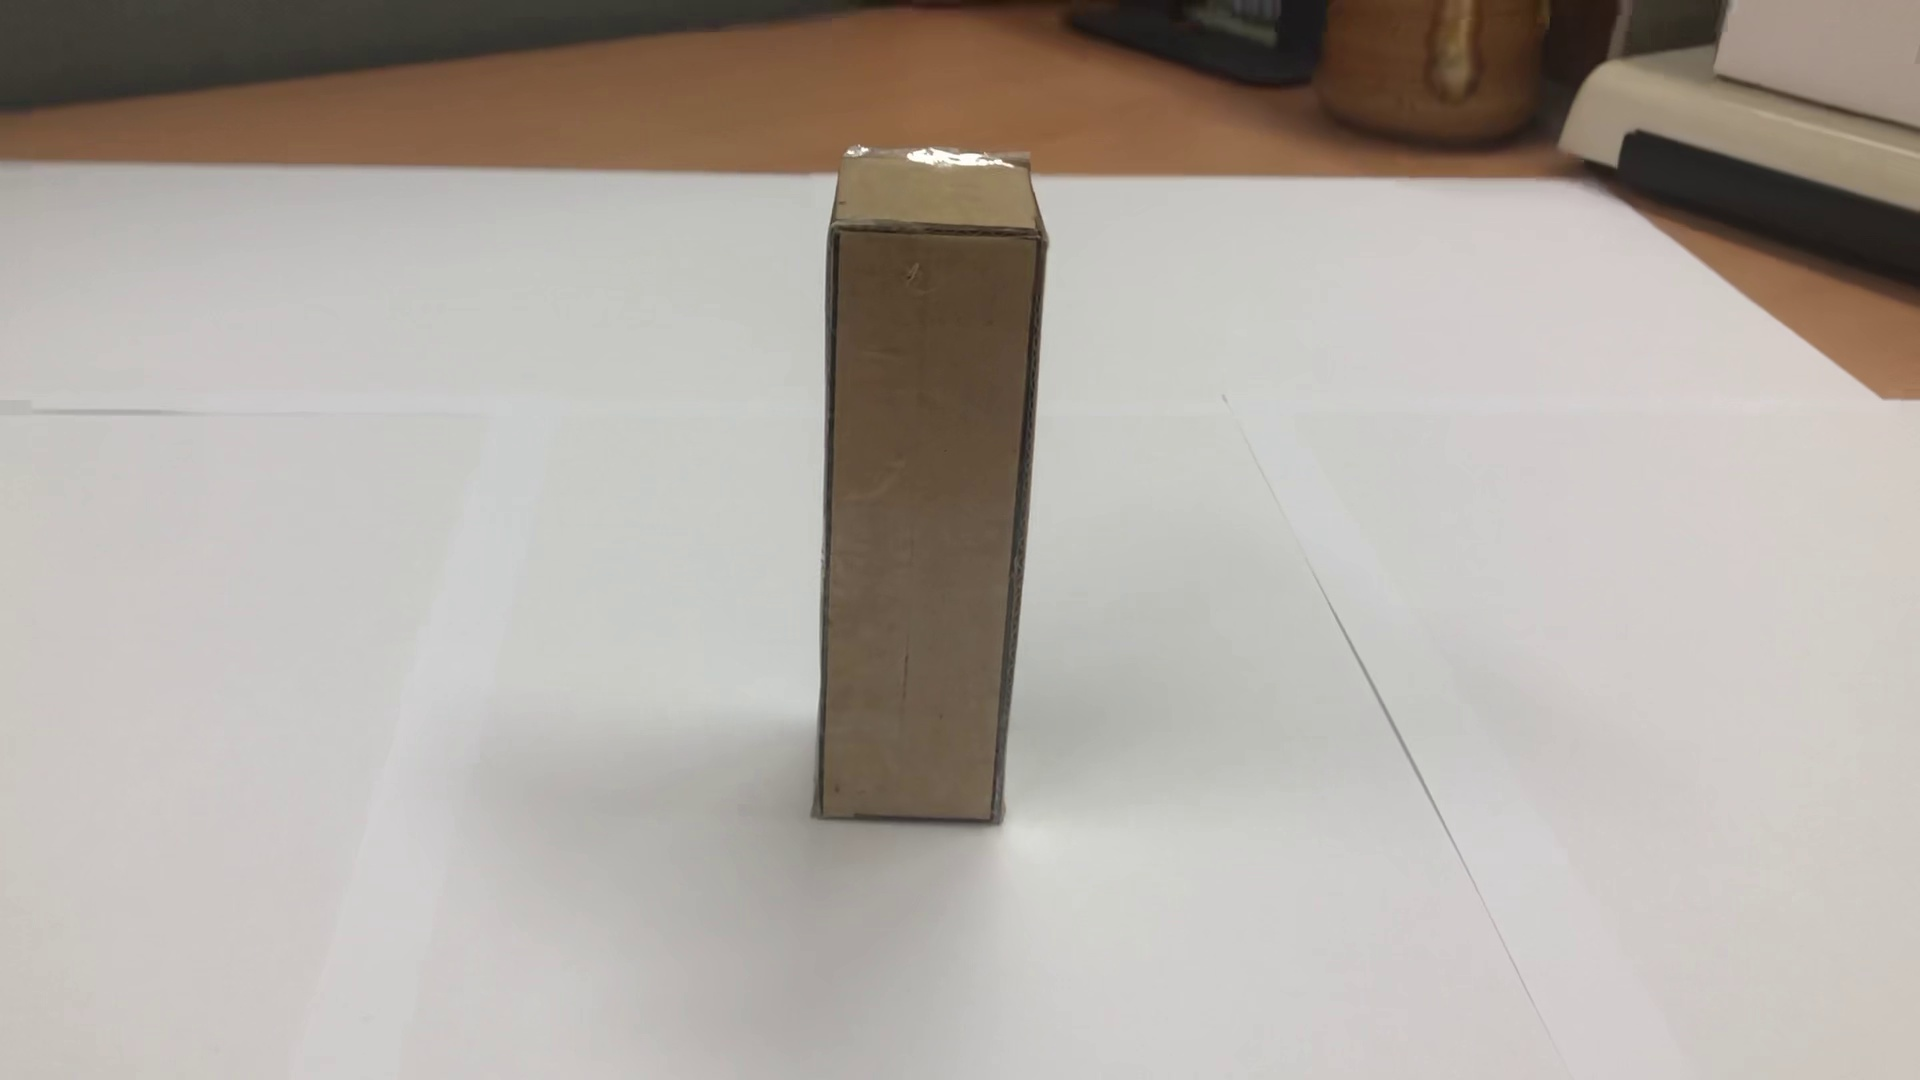box: (785, 102, 1063, 856)
